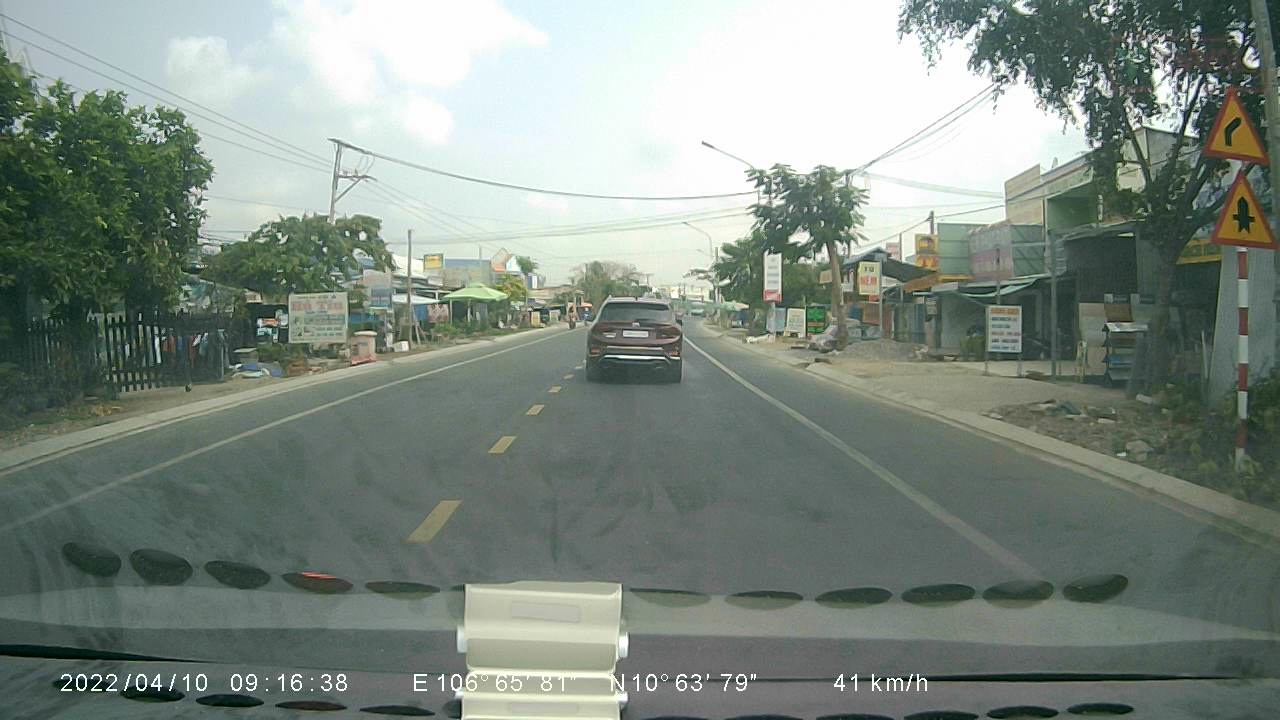Bien khac: (1204, 83, 1272, 163)
Nguoi di bo: (1211, 164, 1280, 249)
